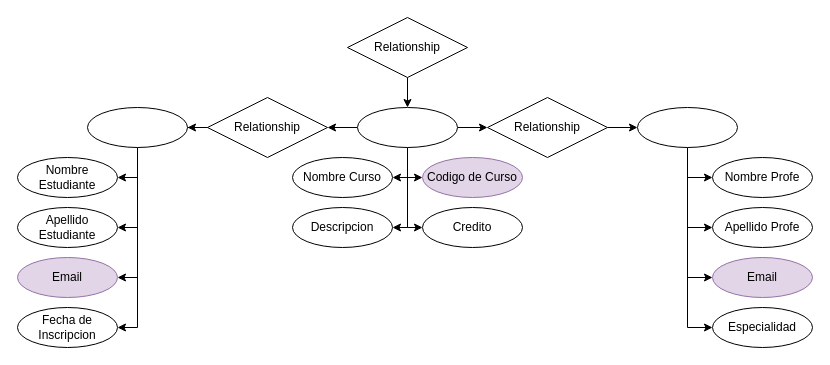
The diagram is 830 pixels wide and 365 high, and some of its shapes have lost their labels. Here are the shapes that lost their labels. From the top down, the centre of each, then its label:
At (x=137, y=127): "Estudiante".
At (x=407, y=127): "Curso".
At (x=687, y=127): "Profesores".
